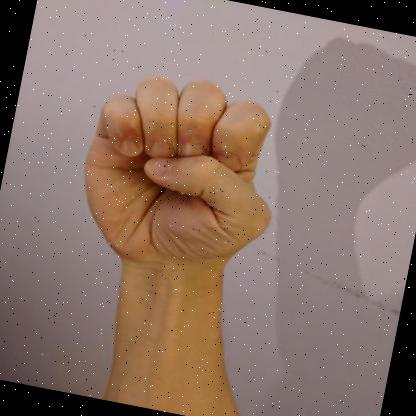E: (83, 75, 271, 282)
